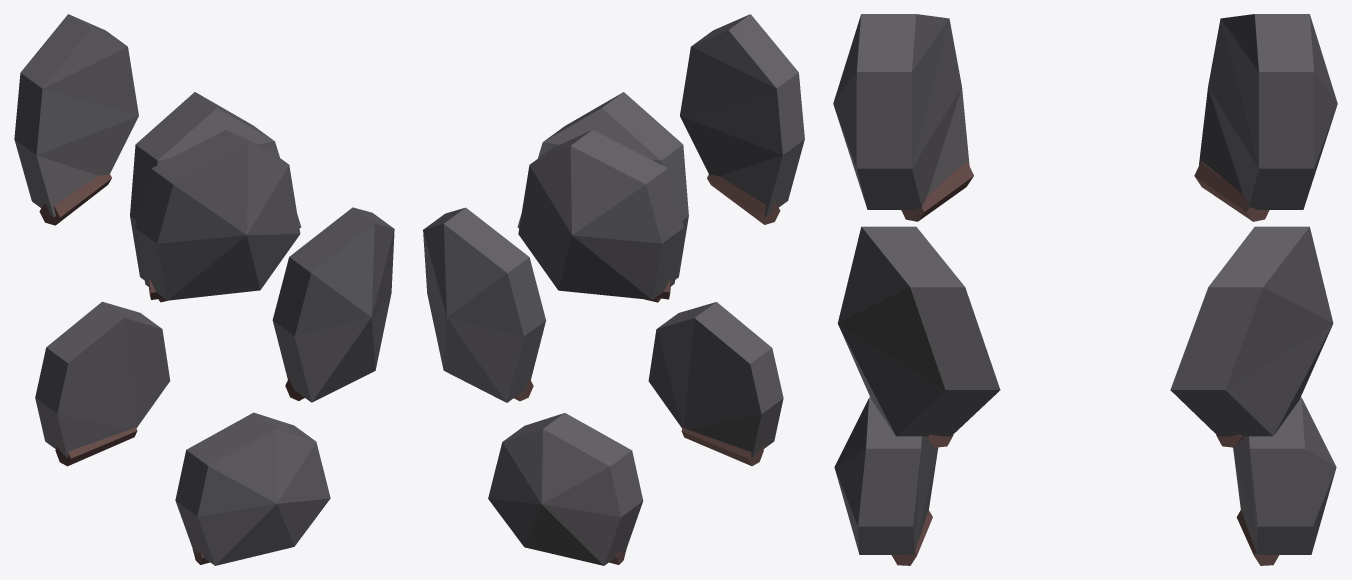
File: implants_female_plating.obj
3 renders of one model, left to right at view 1: azimuth 30°, elevation 25°; view 2: azimuth 150°, elevation 25°; view 3: azimuth 270°, elevation 25°, orthographic. The views are drawn at different scales.
Visible parts, largest first — view 1: implants_female_plating; view 2: implants_female_plating; view 3: implants_female_plating.
Boxes of the visible parts, <box> form: implants_female_plating: <box>14,14,394,565</box>; implants_female_plating: <box>423,14,804,565</box>; implants_female_plating: <box>833,14,1337,565</box>.
Bounding box in the file's own units: 0.2741 × 0.4474 × 0.3847.
